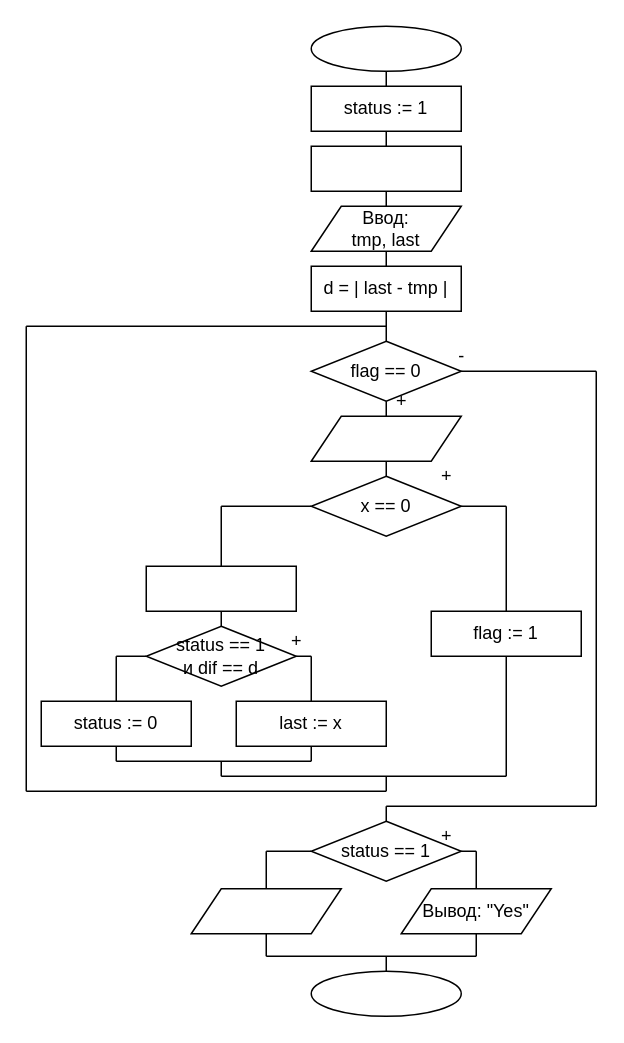
The diagram is 624 pixels wide and 1043 high, and some of its shapes have lost their labels. The shapes that lost their labels are listed below. From the top down, each one's centre as x and y in pixels, then its label:
(385,48): Начало
(385,168): flag := 0
(385,438): Ввод: x
(220,588): dif := |last - x|
(265,910): Вывод: "No"
(385,993): Конец
